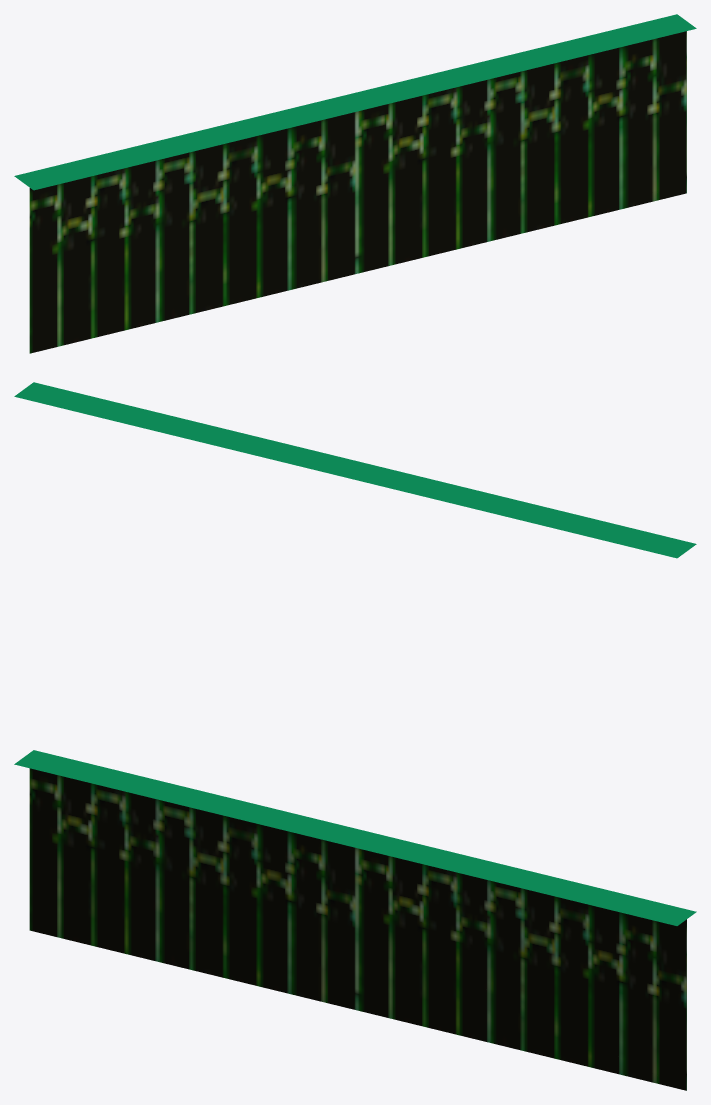
Rendered from Geländer2_Hoch_301.glb.
3 renders of one model, top to bottom at view 1: azimuth 30°, elevation 25°; view 2: azimuth 150°, elevation 25°; view 3: azimuth 330°, elevation 25°, orthographic.
Parts seen in each view (by area): view 1: pPlaneShape223, pPlaneShape224; view 2: pPlaneShape224; view 3: pPlaneShape223, pPlaneShape224.
Part boxes in pixels (box(x1,y1,x2,y2)): pPlaneShape223: box(29, 31, 686, 353); pPlaneShape224: box(14, 14, 696, 190); pPlaneShape224: box(14, 382, 696, 558); pPlaneShape223: box(29, 768, 686, 1090); pPlaneShape224: box(14, 750, 696, 925).
Bounding box in the file's own units: 0.4724 × 0.117 × 0.0243.
Materials: 2 (1 with a texture image).
